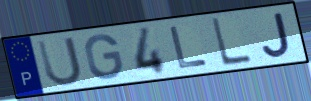4: (133, 26, 166, 76)
G: (83, 33, 125, 82)
J: (260, 10, 293, 59)
L: (209, 16, 254, 69), (167, 24, 210, 71)
U: (35, 34, 85, 88)
